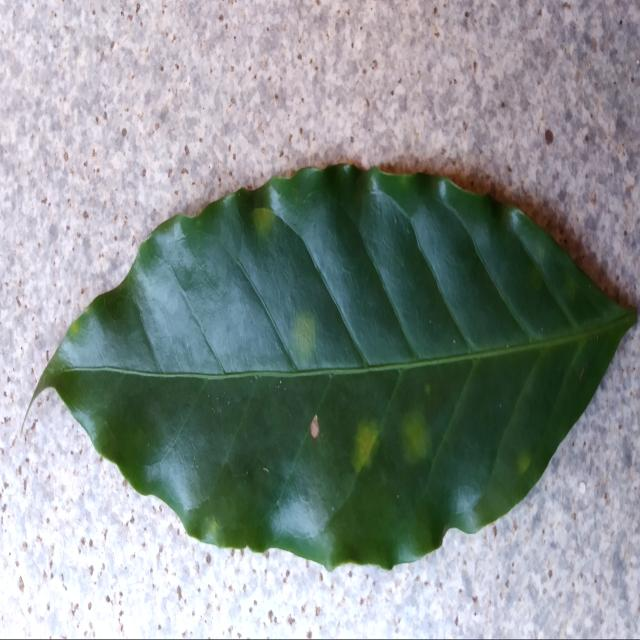Enfermedad-Roya: (38, 165, 637, 572)
